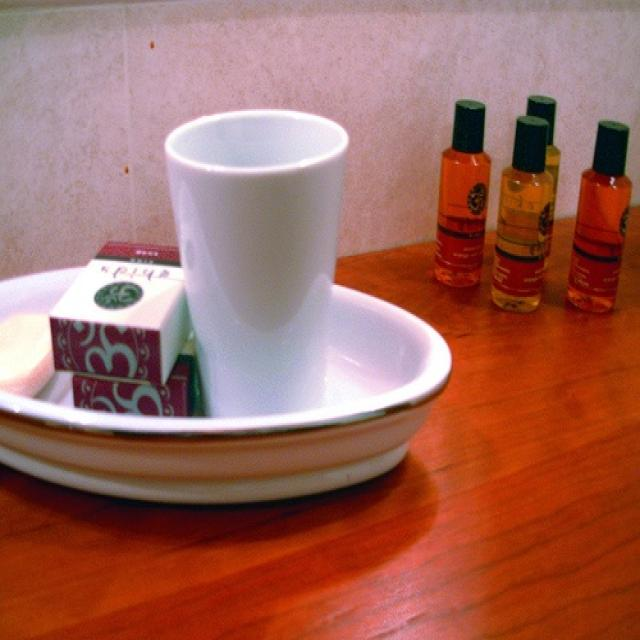bottle: (489, 115, 557, 312), (566, 119, 630, 316), (432, 99, 492, 288), (526, 94, 561, 268)
